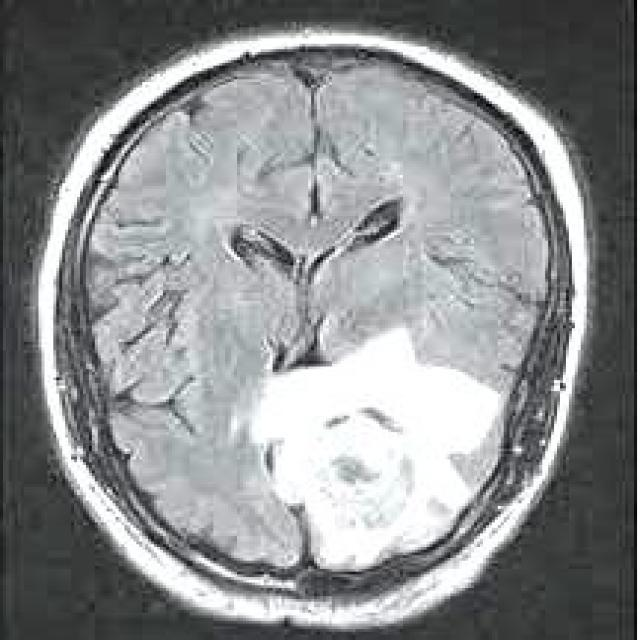tumor: (255, 328, 504, 574)
